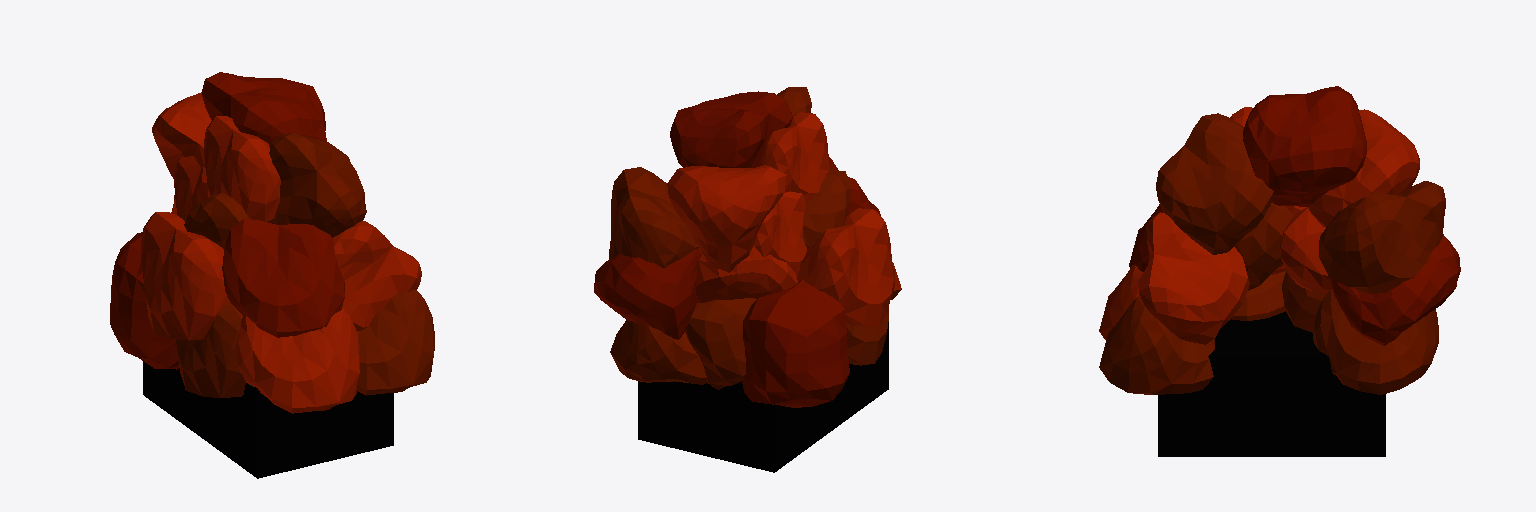
The model's file is Cave.obj.
3 views of the same model, side by side, from view 1: azimuth 30°, elevation 25°; view 2: azimuth 150°, elevation 25°; view 3: azimuth 270°, elevation 25° (orthographic).
Visible parts, largest first — view 1: Cube, rock.016, rock.010, rock.015, rock.007, rock.004, rock.008, rock.005, rock.006, rock.014, rock.011, rock.009 (+2 smaller); view 2: Cube, rock.014, rock.009, rock.015, rock.008, rock.001, rock.002, rock.003, rock.012, rock.006, rock.013, rock.018 (+4 smaller); view 3: Cube, rock.008, rock.007, rock.002, rock.005, rock.004, rock.003, rock.001, rock.009, rock.013, rock.017, rock.011 (+3 smaller).
Part boxes in pixels (x1,y1,x2,y2): Cube: (143, 361, 393, 478); rock.016: (222, 219, 344, 337); rock.010: (236, 308, 360, 413); rock.015: (141, 212, 228, 340); rock.007: (267, 133, 366, 237); rock.004: (356, 290, 434, 395); rock.008: (202, 72, 326, 143); rock.005: (333, 221, 421, 330); rock.006: (204, 116, 280, 221); rock.014: (110, 232, 179, 369); rock.011: (176, 301, 245, 397); rock.009: (152, 92, 211, 178); Cube: (638, 322, 888, 472); rock.014: (742, 280, 849, 407); rock.009: (667, 165, 786, 272); rock.015: (797, 208, 893, 327); rock.008: (670, 91, 792, 167); rock.001: (594, 248, 700, 339); rock.002: (609, 167, 698, 267); rock.003: (610, 319, 706, 384); rock.012: (685, 298, 756, 389); rock.006: (758, 112, 829, 203); rock.013: (695, 246, 797, 302); rock.018: (754, 191, 806, 275); Cube: (1158, 311, 1385, 456); rock.008: (1243, 86, 1366, 206); rock.007: (1156, 113, 1273, 254); rock.002: (1319, 181, 1445, 293); rock.005: (1138, 212, 1249, 344); rock.004: (1099, 296, 1214, 394); rock.003: (1313, 289, 1438, 394); rock.001: (1331, 234, 1460, 345); rock.009: (1307, 109, 1419, 227); rock.013: (1280, 208, 1331, 292); rock.017: (1234, 203, 1293, 290); rock.011: (1231, 271, 1285, 320).
Bounding box in the file's own units: 2.23 × 3.16 × 3.17.